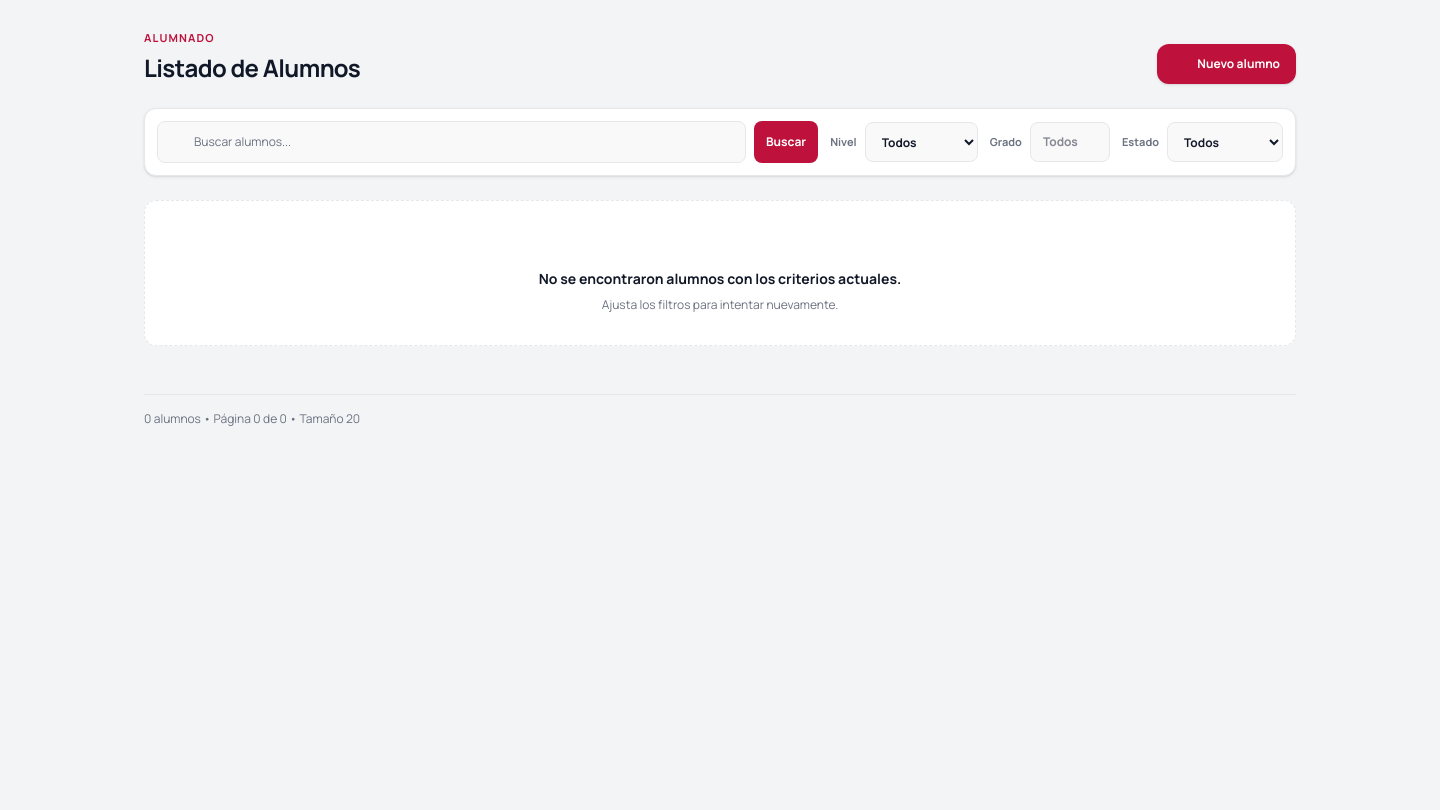
Scenario: uncertain creation shows guidance, refreshes the list and never retries automatically
This screenshot has width=1440, height=810.
Click the button "Nuevo alumno".
click(1227, 64)  # box [1157,44,1296,84]
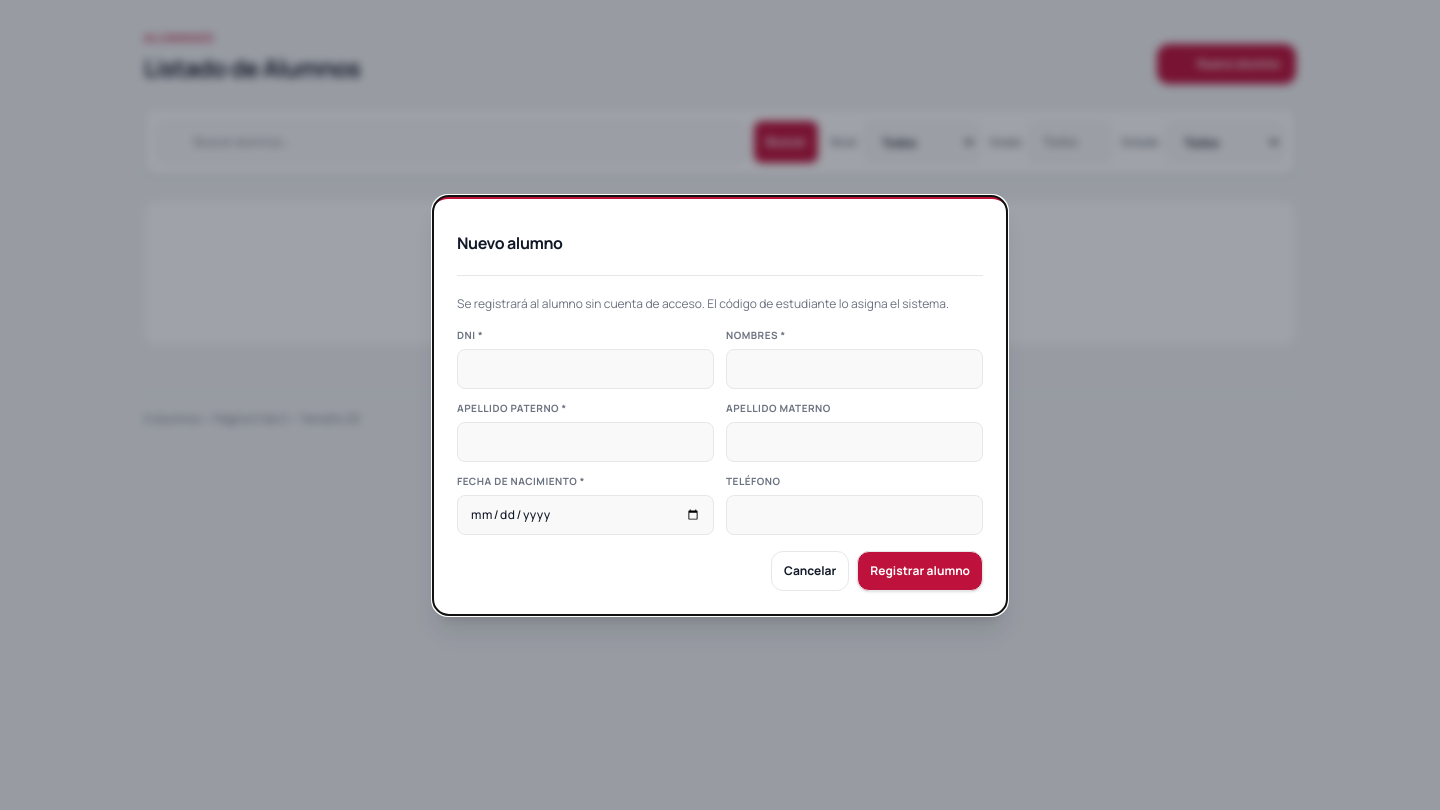
Type "12345678" into the field labelled "DNI *".
click(586, 368); type("12345678")  # box [457,348,714,388]
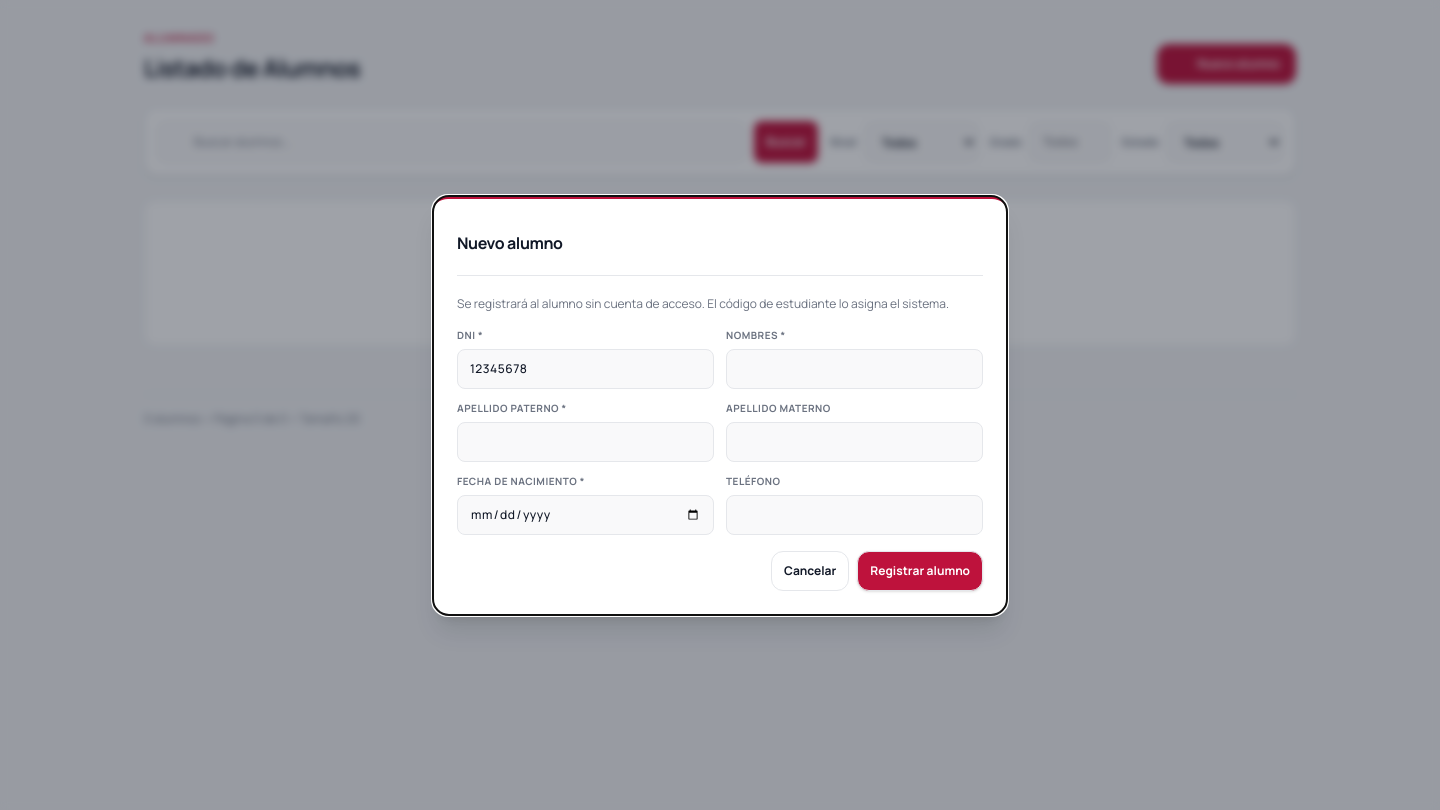
Type " Ana " into the field labelled "Nombres *".
click(854, 368); type(" Ana ")  # box [726,348,983,388]
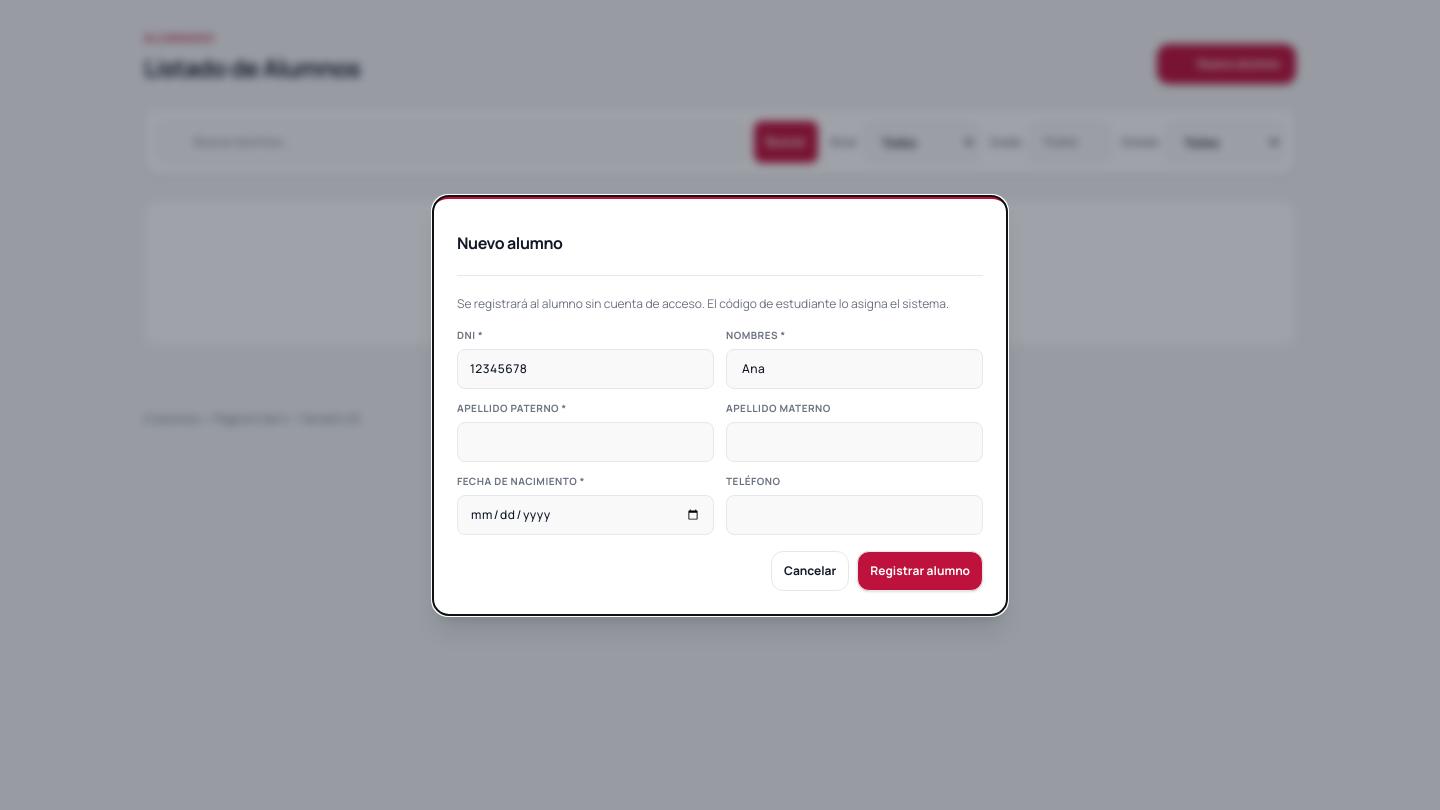
Type " Sintética " into the field labelled "Apellido paterno *".
click(586, 442); type(" Sintética ")  # box [457,422,714,462]
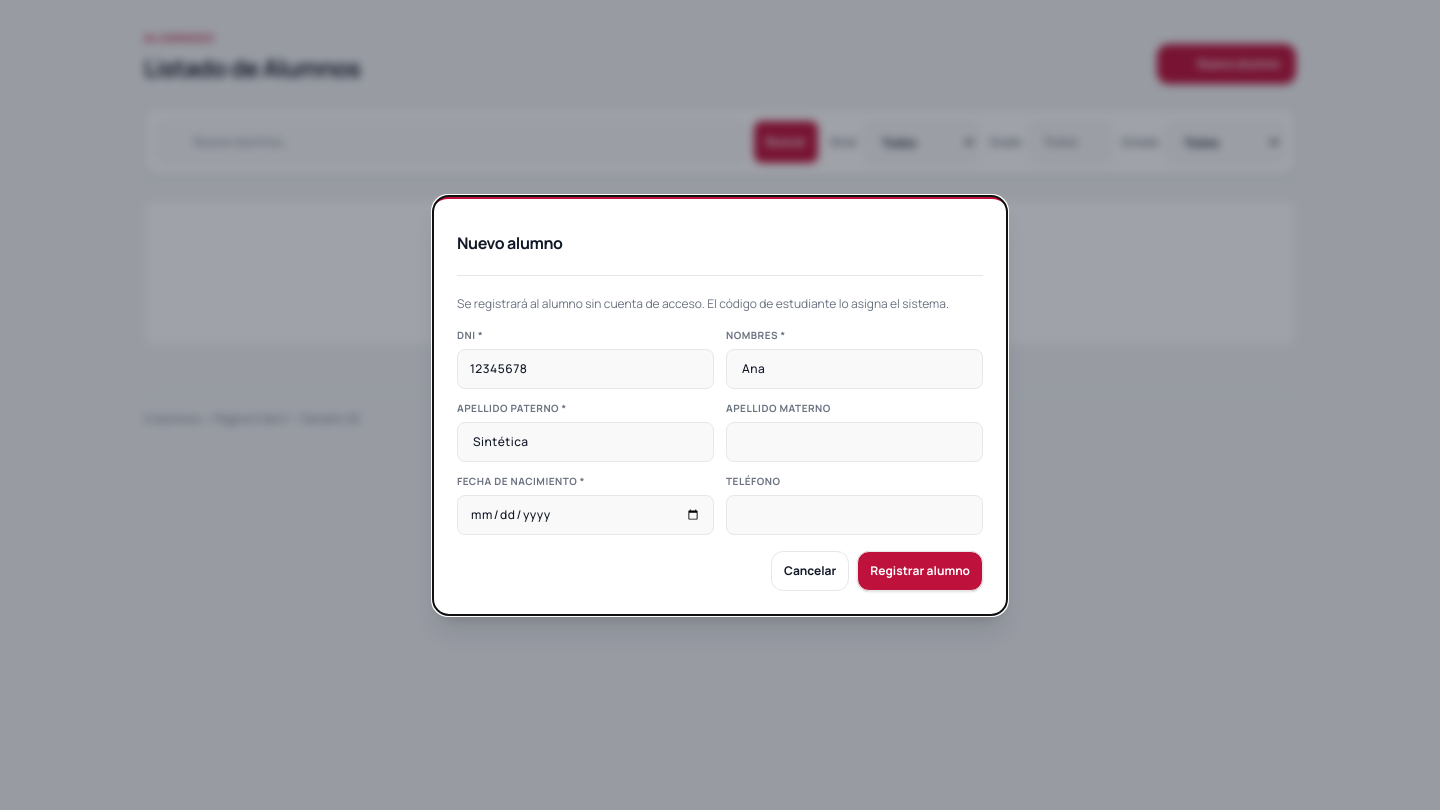
Type "2015-03-04" into the date field labelled "Fecha de nacimiento *".
click(586, 514); type("2015-03-04")  # box [457,494,714,534]
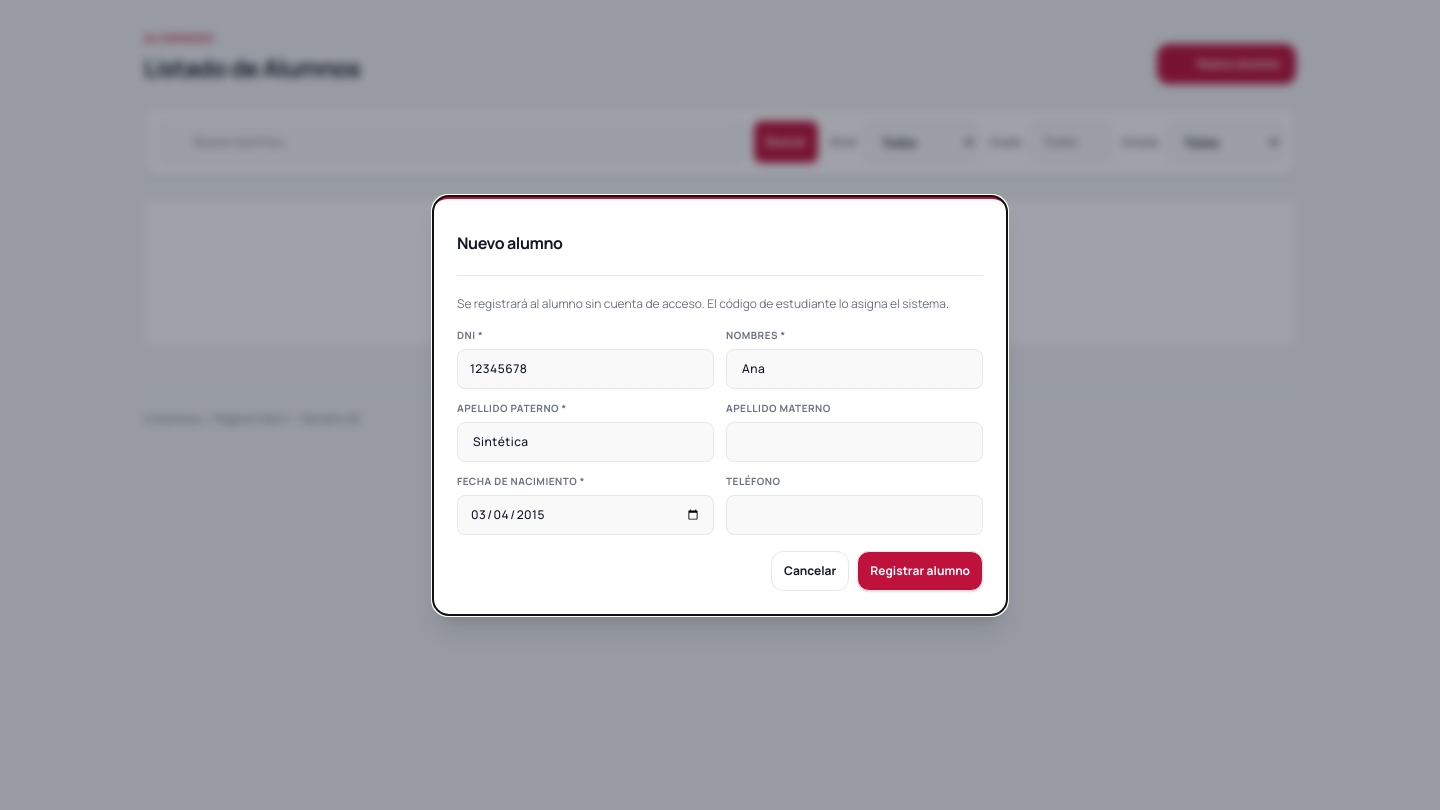
Submit the form, box [457,296,983,590]
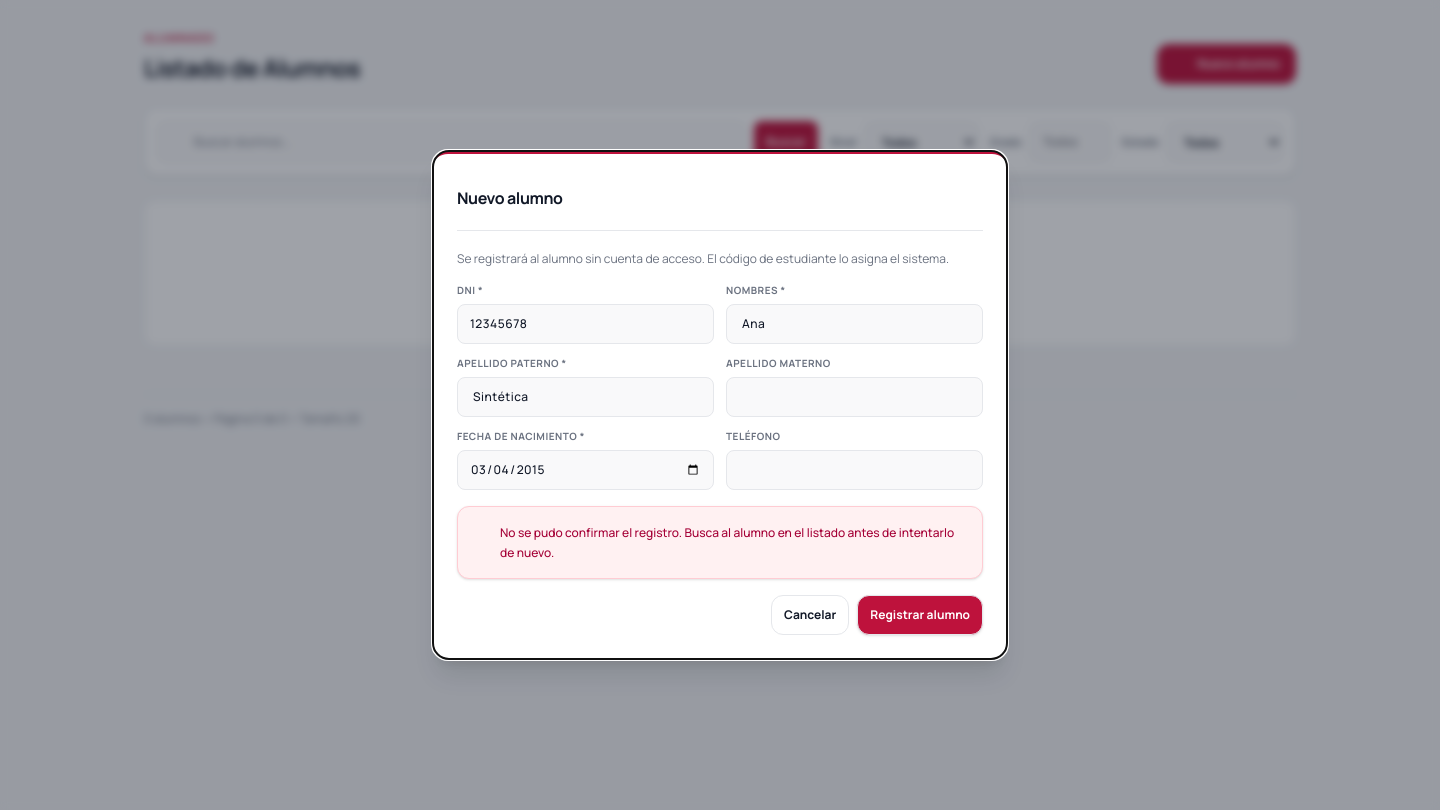
Expected: the text "No se pudo confirmar el registro. Busca al alumno en el listado" is shown, [500,524,957,560]
